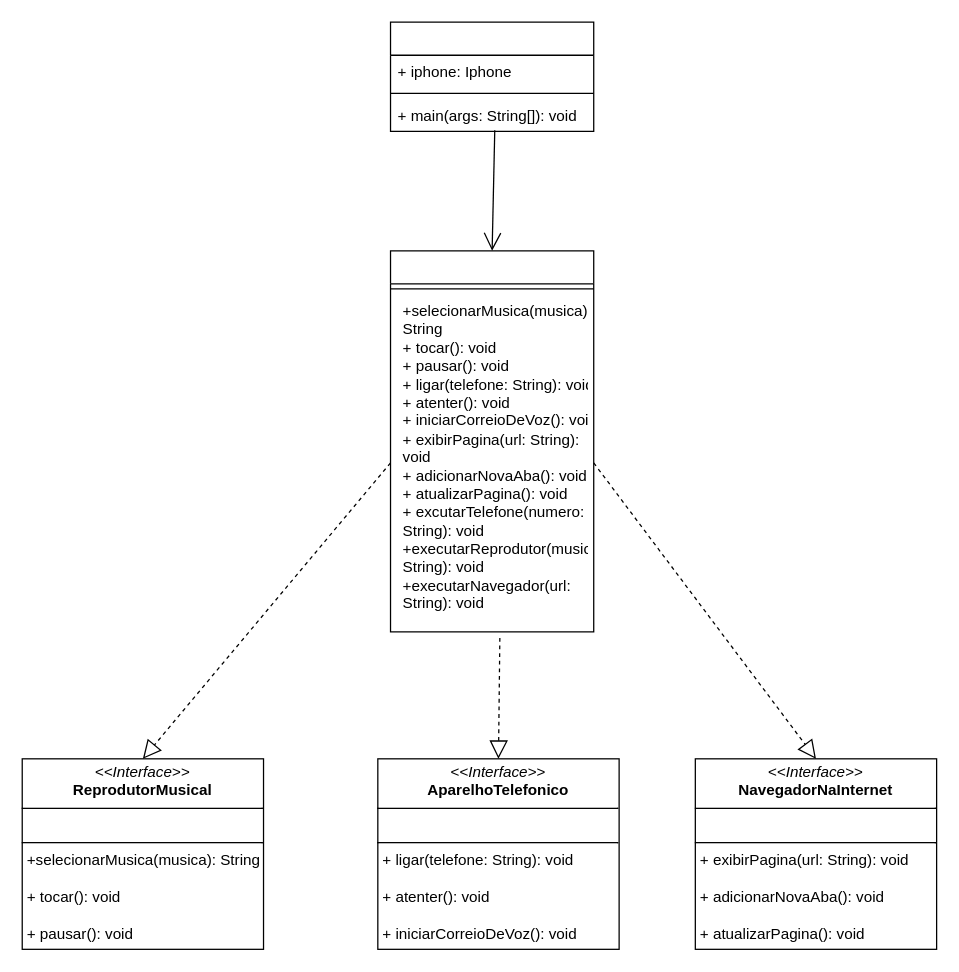
Some shapes in this 959 by 972 pixel diagram are drawn without their labels. Each missing label, with the box of its shape:
Classname: (389, 21, 594, 131)
Iphone: (389, 250, 594, 632)
